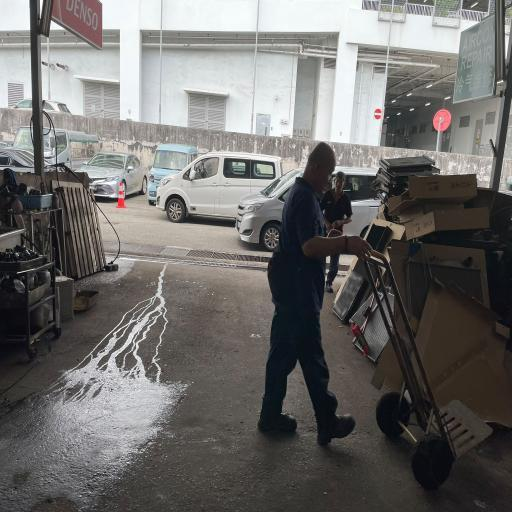person_right: (248, 138, 494, 481)
